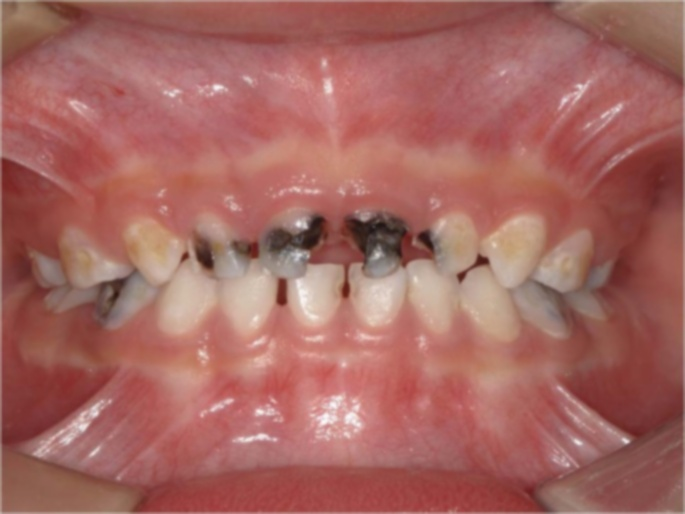Caries: (187, 201, 332, 286), (333, 204, 451, 290), (101, 280, 130, 331)
